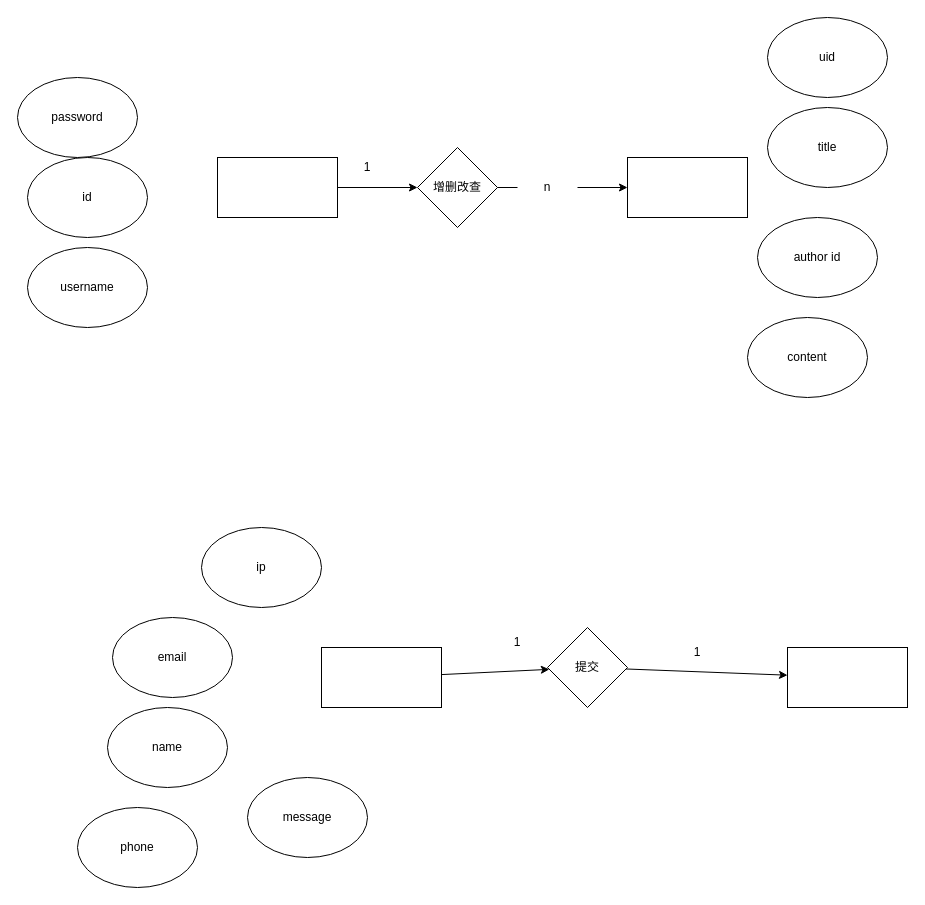
This 925x905 diagram has some shape labels left out. The shapes that lost their labels are listed below. From the top down, each one's centre as x and y in pixels, then its label:
(277,187): admin
(687,187): 文章
(381,677): random user
(847,677): database
